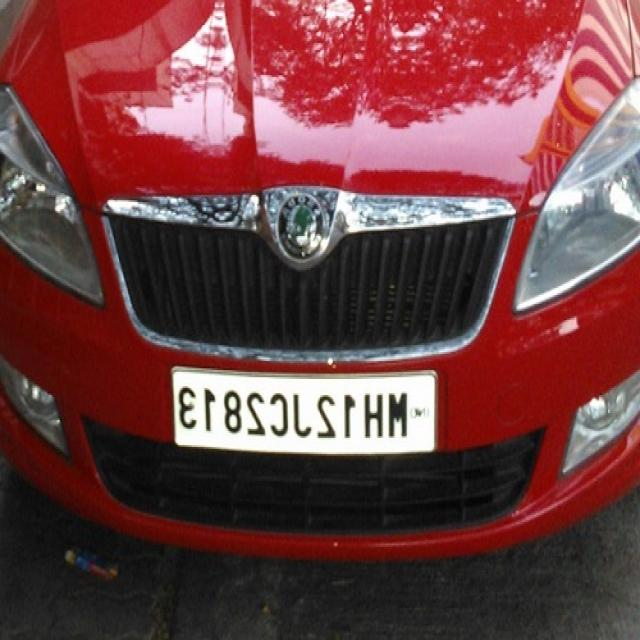license_plate: (168, 359, 444, 465)
